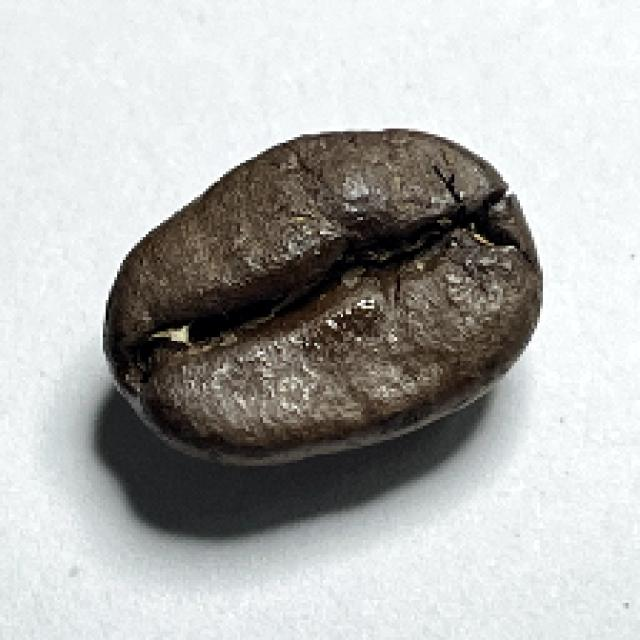bean: (103, 128, 538, 457)
